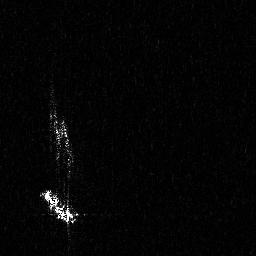ship: (33, 182, 106, 240), (48, 82, 78, 182)
